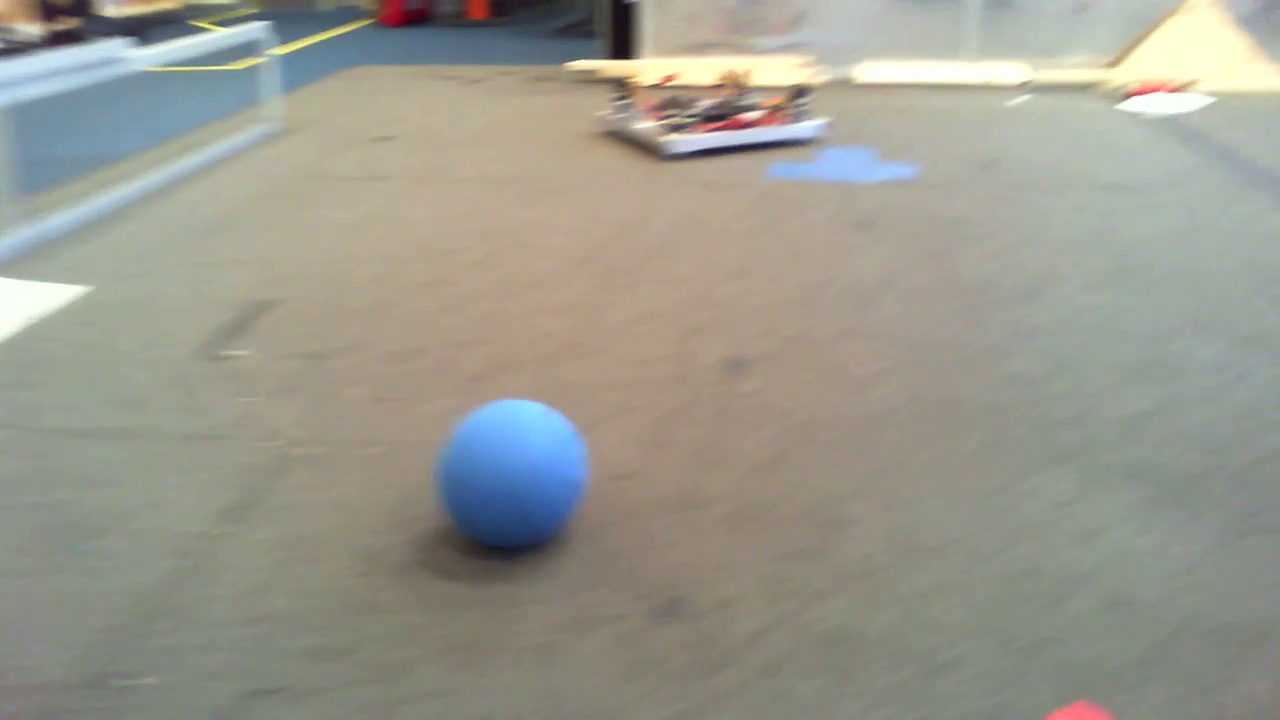blue_cargo: (426, 400, 593, 547)
